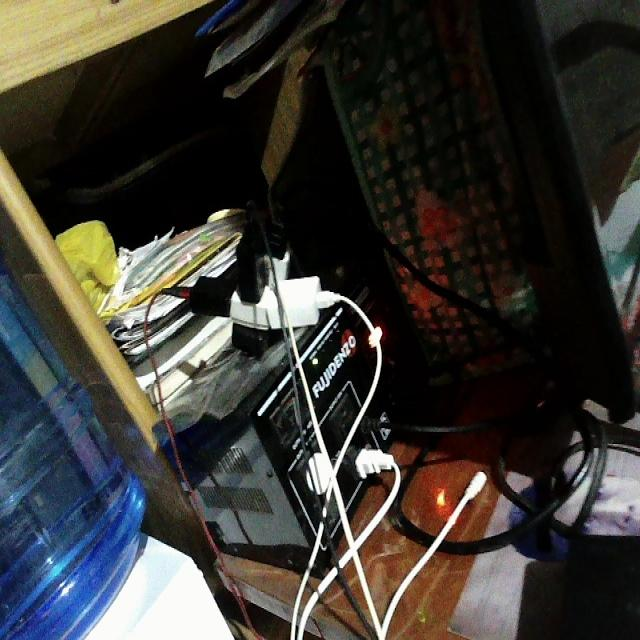-: (187, 210, 317, 354)
